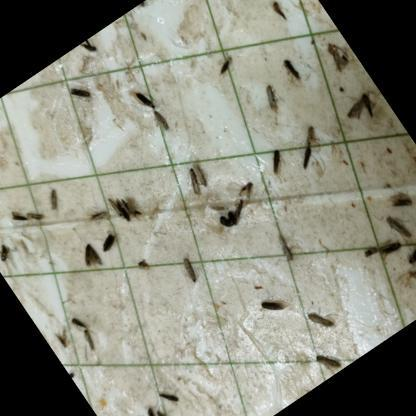prays_oleae: (201, 40, 245, 86), (250, 76, 290, 118), (302, 300, 340, 340), (74, 241, 111, 280), (292, 118, 328, 156), (371, 226, 407, 264), (310, 342, 345, 380), (254, 288, 290, 324), (379, 208, 414, 245), (383, 181, 416, 220), (90, 224, 125, 260), (268, 230, 301, 268), (276, 52, 308, 90), (290, 142, 322, 178), (258, 146, 291, 179), (154, 378, 186, 411), (36, 184, 67, 216), (66, 77, 96, 110), (186, 155, 214, 190), (176, 166, 206, 198), (86, 202, 116, 233), (174, 251, 204, 282), (225, 193, 254, 225), (354, 88, 382, 121), (129, 83, 158, 114), (356, 236, 384, 268), (234, 175, 262, 203), (7, 204, 34, 233), (114, 187, 139, 218), (22, 200, 48, 228), (0, 230, 19, 268), (150, 108, 174, 136), (110, 195, 132, 223), (78, 328, 102, 352), (66, 310, 89, 334), (265, 0, 289, 22), (104, 194, 124, 219), (402, 236, 416, 266), (132, 252, 151, 272), (135, 403, 164, 416), (210, 408, 243, 416)
